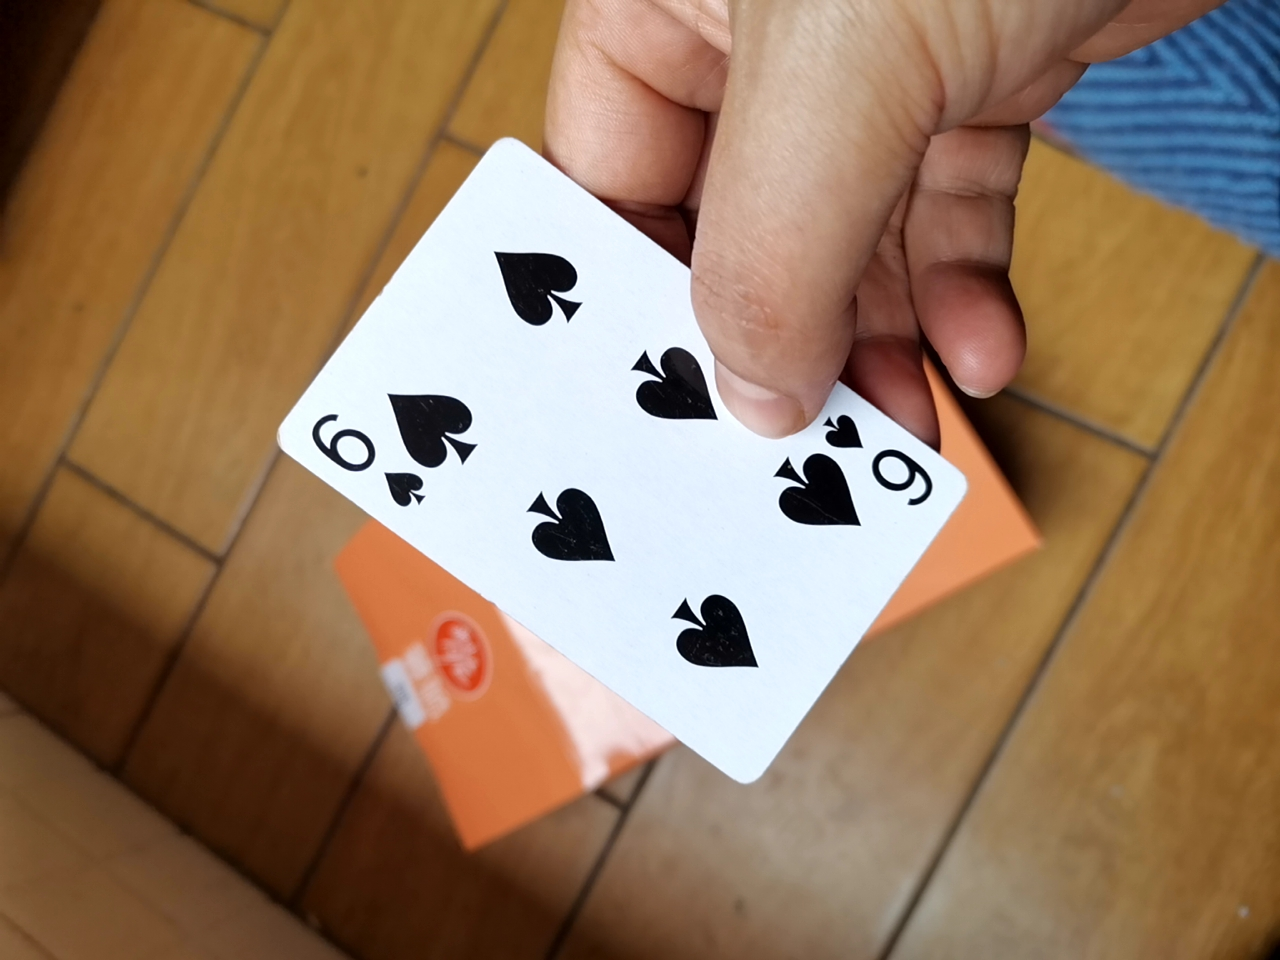ht 6: (268, 131, 976, 814)
